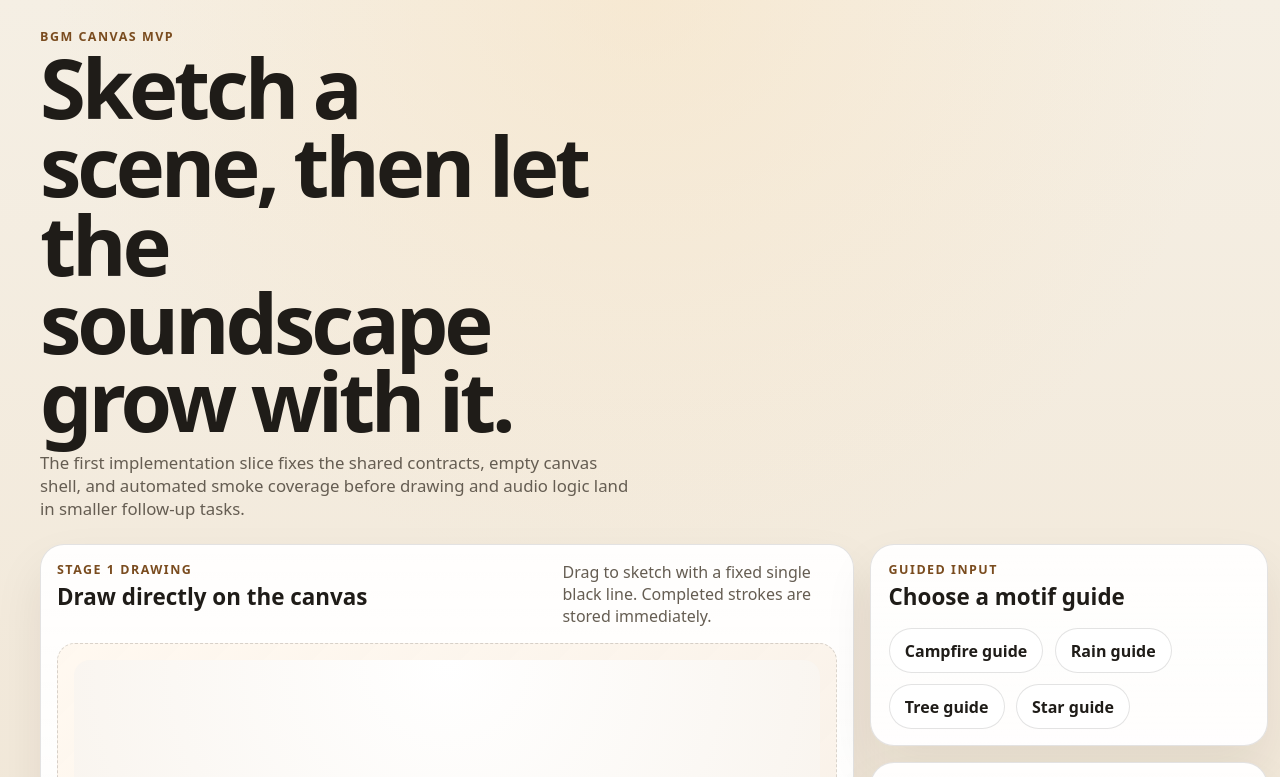
Test: App bootstrap › does not create a scene element when the guided input is too short
The image size is (1280, 777).
Click the button "Rain guide" at (1113, 651), box x1=1055 y1=628 x2=1172 y2=673
(page scrolled)
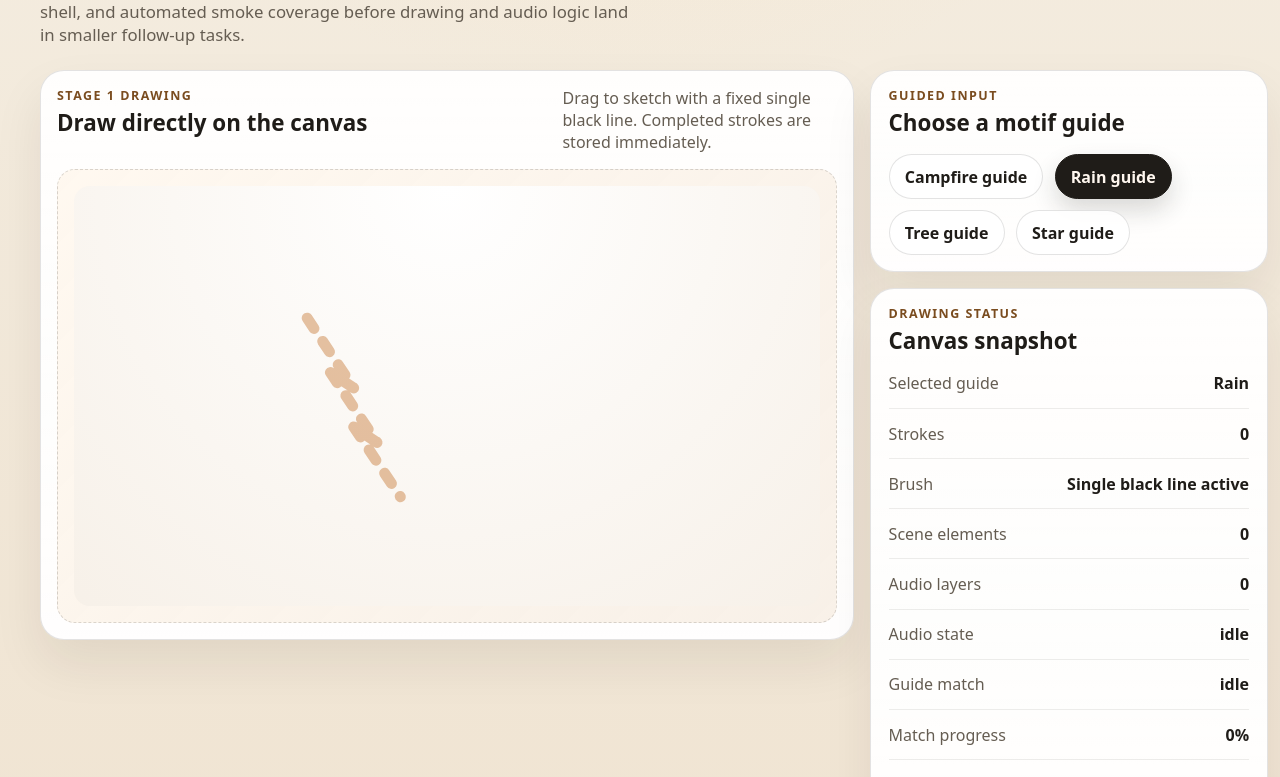
Press the mouse on the drawing named "bgm canvas drawing surface" at (447, 396), box x1=74 y1=186 x2=820 y2=606
(page scrolled)
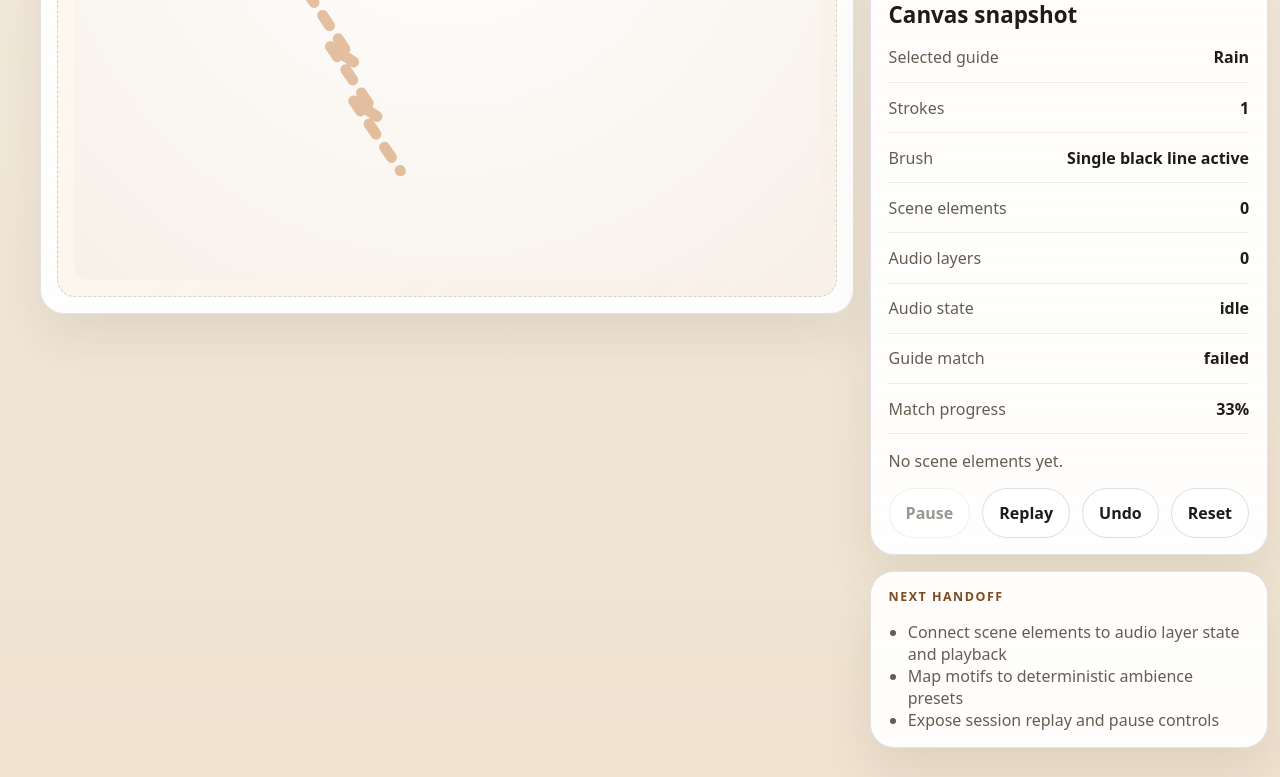
Check: the text with test id "scene-count" reads "0", box x1=1240 y1=197 x2=1249 y2=219
Check: the text with test id "stroke-count" reads "1", box x1=1240 y1=96 x2=1249 y2=118
Check: the text with test id "guided-match-state" reads "failed", box x1=1204 y1=348 x2=1249 y2=370
